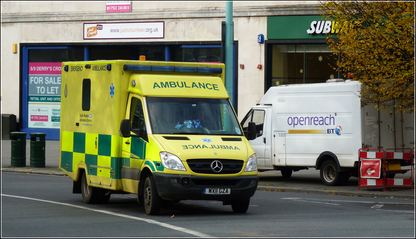ambulance: (58, 59, 259, 215)
